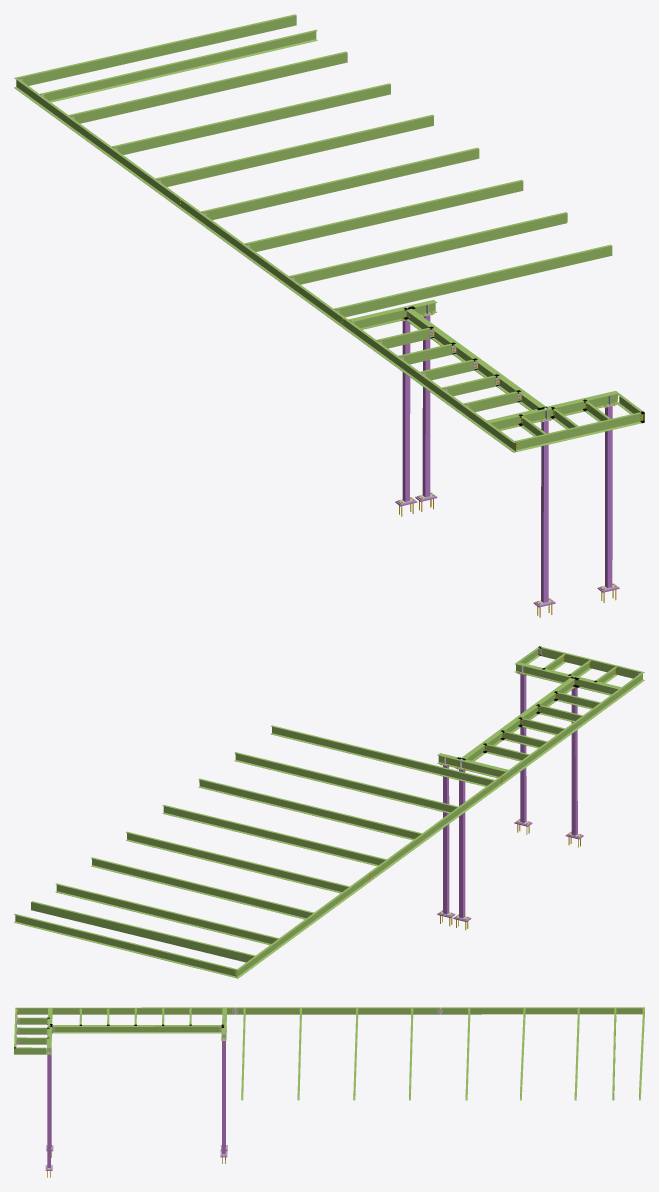
File: dupont.glb
The picture shows the model from 3 angles, top to bottom: view 1: azimuth 30°, elevation 25°; view 2: azimuth 150°, elevation 25°; view 3: azimuth 270°, elevation 25°; orthographic projection. The views are drawn at different scales.
Parts seen in each view (by area): view 1: product-03647018-8819-427b-a174-203157cbe1a2-body, product-fcaf24fc-e2ca-4e60-a109-517e01833667-body, product-7711b7ee-9196-4aa9-808a-b01f4854dc79-body, product-b2752736-a760-4115-aff3-892e6e44c773-body, product-2c767686-aa17-44b3-806b-0849ab61884d-body, product-478d8c39-669a-489c-b0f3-fa844fe5afb4-body, product-c89de654-eade-433c-95cd-6c3bc205be14-body, product-3d40e7d9-63bc-40f9-862a-9d8dd308058e-body, product-da0b190a-9942-4d2b-9449-e0aeb4eb612a-body, product-b5b919db-317c-4ec7-98ee-a1c06f5cb64c-body, product-05d8baa2-4566-4cf5-9504-cb0496df349c-body, product-0fcbe4f6-d68d-4d97-aabc-29cf02f9590c-body (+8 smaller); view 2: product-da0b190a-9942-4d2b-9449-e0aeb4eb612a-body, product-03647018-8819-427b-a174-203157cbe1a2-body, product-478d8c39-669a-489c-b0f3-fa844fe5afb4-body, product-c89de654-eade-433c-95cd-6c3bc205be14-body, product-7711b7ee-9196-4aa9-808a-b01f4854dc79-body, product-2c767686-aa17-44b3-806b-0849ab61884d-body, product-b2752736-a760-4115-aff3-892e6e44c773-body, product-3d40e7d9-63bc-40f9-862a-9d8dd308058e-body, product-fcaf24fc-e2ca-4e60-a109-517e01833667-body, product-b5b919db-317c-4ec7-98ee-a1c06f5cb64c-body, product-05d8baa2-4566-4cf5-9504-cb0496df349c-body, product-0fcbe4f6-d68d-4d97-aabc-29cf02f9590c-body (+8 smaller); view 3: product-b5b919db-317c-4ec7-98ee-a1c06f5cb64c-body, product-05d8baa2-4566-4cf5-9504-cb0496df349c-body, product-0fcbe4f6-d68d-4d97-aabc-29cf02f9590c-body, product-76b09331-49f4-4b76-801e-2af20e07629f-body, product-e258a531-43c9-41e1-899f-0b103480c766-body, product-33fa42ef-b25a-4c6b-bdc7-facd4e3ebd5f-body, product-b2752736-a760-4115-aff3-892e6e44c773-body, product-2c767686-aa17-44b3-806b-0849ab61884d-body, product-fcaf24fc-e2ca-4e60-a109-517e01833667-body, product-7711b7ee-9196-4aa9-808a-b01f4854dc79-body.
Boxes of the visible parts, left/top/right/bottom form: product-03647018-8819-427b-a174-203157cbe1a2-body: left=17, top=14, right=296, bottom=85; product-fcaf24fc-e2ca-4e60-a109-517e01833667-body: left=112, top=83, right=390, bottom=154; product-7711b7ee-9196-4aa9-808a-b01f4854dc79-body: left=334, top=244, right=612, bottom=317; product-b2752736-a760-4115-aff3-892e6e44c773-body: left=69, top=51, right=347, bottom=123; product-2c767686-aa17-44b3-806b-0849ab61884d-body: left=245, top=179, right=523, bottom=251; product-478d8c39-669a-489c-b0f3-fa844fe5afb4-body: left=201, top=147, right=479, bottom=220; product-c89de654-eade-433c-95cd-6c3bc205be14-body: left=289, top=212, right=567, bottom=284; product-3d40e7d9-63bc-40f9-862a-9d8dd308058e-body: left=156, top=114, right=433, bottom=186; product-da0b190a-9942-4d2b-9449-e0aeb4eb612a-body: left=40, top=29, right=317, bottom=102; product-b5b919db-317c-4ec7-98ee-a1c06f5cb64c-body: left=339, top=315, right=516, bottom=452; product-05d8baa2-4566-4cf5-9504-cb0496df349c-body: left=14, top=77, right=179, bottom=206; product-0fcbe4f6-d68d-4d97-aabc-29cf02f9590c-body: left=177, top=196, right=341, bottom=325; product-da0b190a-9942-4d2b-9449-e0aeb4eb612a-body: left=31, top=901, right=255, bottom=962; product-03647018-8819-427b-a174-203157cbe1a2-body: left=14, top=913, right=236, bottom=977; product-478d8c39-669a-489c-b0f3-fa844fe5afb4-body: left=162, top=805, right=386, bottom=866; product-c89de654-eade-433c-95cd-6c3bc205be14-body: left=234, top=752, right=458, bottom=813; product-7711b7ee-9196-4aa9-808a-b01f4854dc79-body: left=271, top=725, right=494, bottom=786; product-2c767686-aa17-44b3-806b-0849ab61884d-body: left=198, top=778, right=421, bottom=840; product-b2752736-a760-4115-aff3-892e6e44c773-body: left=55, top=883, right=278, bottom=945; product-3d40e7d9-63bc-40f9-862a-9d8dd308058e-body: left=126, top=831, right=349, bottom=893; product-fcaf24fc-e2ca-4e60-a109-517e01833667-body: left=91, top=857, right=313, bottom=919; product-b5b919db-317c-4ec7-98ee-a1c06f5cb64c-body: left=501, top=672, right=644, bottom=783; product-05d8baa2-4566-4cf5-9504-cb0496df349c-body: left=236, top=873, right=370, bottom=978; product-0fcbe4f6-d68d-4d97-aabc-29cf02f9590c-body: left=368, top=776, right=502, bottom=881; product-b5b919db-317c-4ec7-98ee-a1c06f5cb64c-body: left=15, top=1007, right=234, bottom=1014; product-05d8baa2-4566-4cf5-9504-cb0496df349c-body: left=440, top=1007, right=644, bottom=1014; product-0fcbe4f6-d68d-4d97-aabc-29cf02f9590c-body: left=235, top=1007, right=439, bottom=1014; product-76b09331-49f4-4b76-801e-2af20e07629f-body: left=52, top=1025, right=221, bottom=1033; product-e258a531-43c9-41e1-899f-0b103480c766-body: left=222, top=1041, right=225, bottom=1154; product-33fa42ef-b25a-4c6b-bdc7-facd4e3ebd5f-body: left=47, top=1054, right=50, bottom=1167; product-b2752736-a760-4115-aff3-892e6e44c773-body: left=574, top=1008, right=579, bottom=1100; product-2c767686-aa17-44b3-806b-0849ab61884d-body: left=353, top=1008, right=358, bottom=1100; product-fcaf24fc-e2ca-4e60-a109-517e01833667-body: left=520, top=1008, right=525, bottom=1100; product-7711b7ee-9196-4aa9-808a-b01f4854dc79-body: left=241, top=1008, right=245, bottom=1100.
Bounding box in the file's own units: 5.94 × 4.23 × 18.47.
